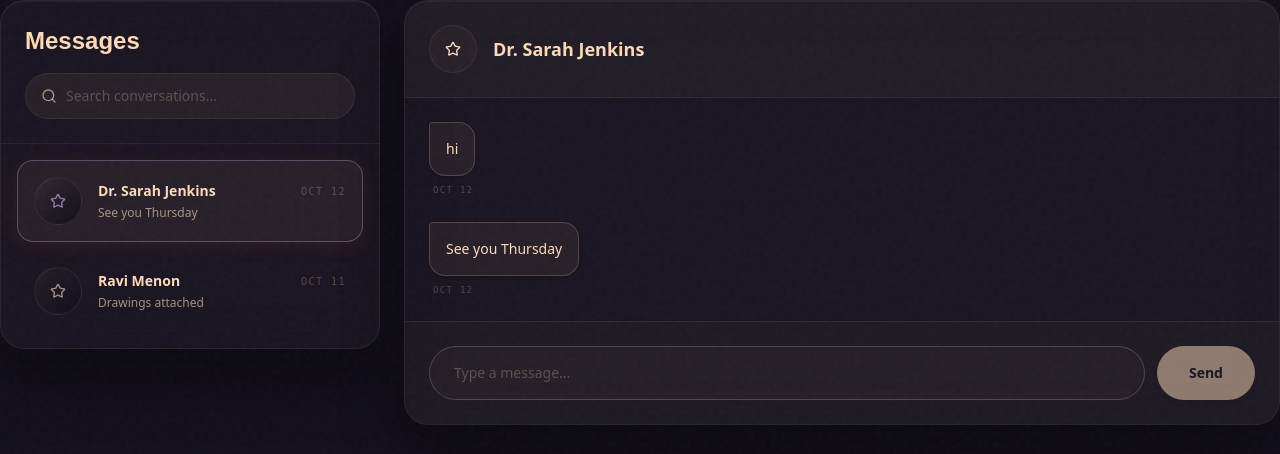
Scenario: ChatWorkspace: resilience and search › filters conversations by name or last message and says when nothing matches
This screenshot has width=1280, height=454.
expect the text "hi" is shown: met, box [429,122,475,176]
Type "drawings" into the field labelled "Search conversations" at {"x": 190, "y": 96}, box [25,73,355,119]
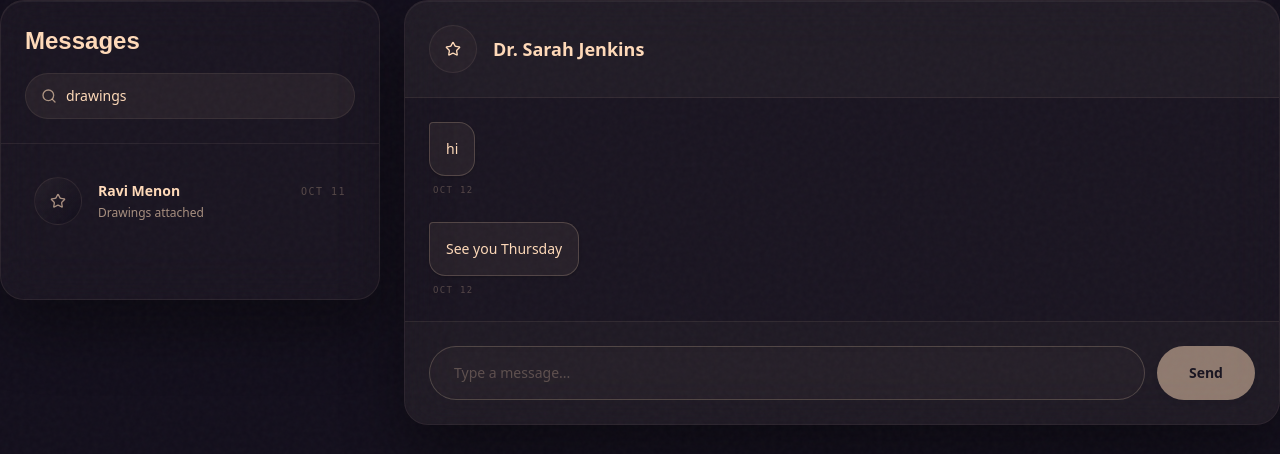
expect the button "Ravi Menon Oct 11 Drawings attached" is shown: met, box [34,177,346,225]
Replace the text in the field named "Search conversations" with "zzzz" at {"x": 190, "y": 96}, box [25,73,355,119]
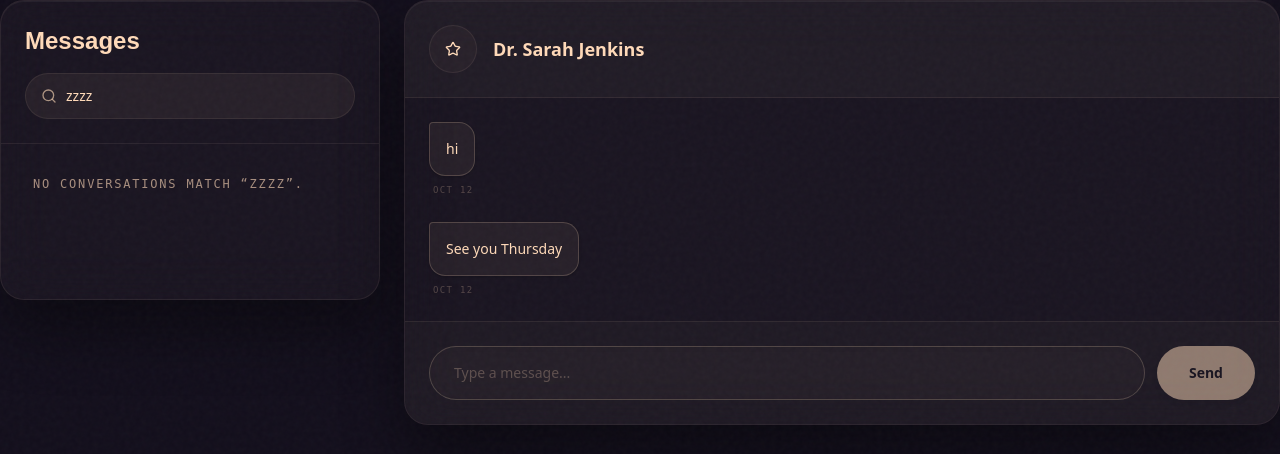
expect the text "No conversations match “zzzz”." is shown: met, box [33,177,304,191]
